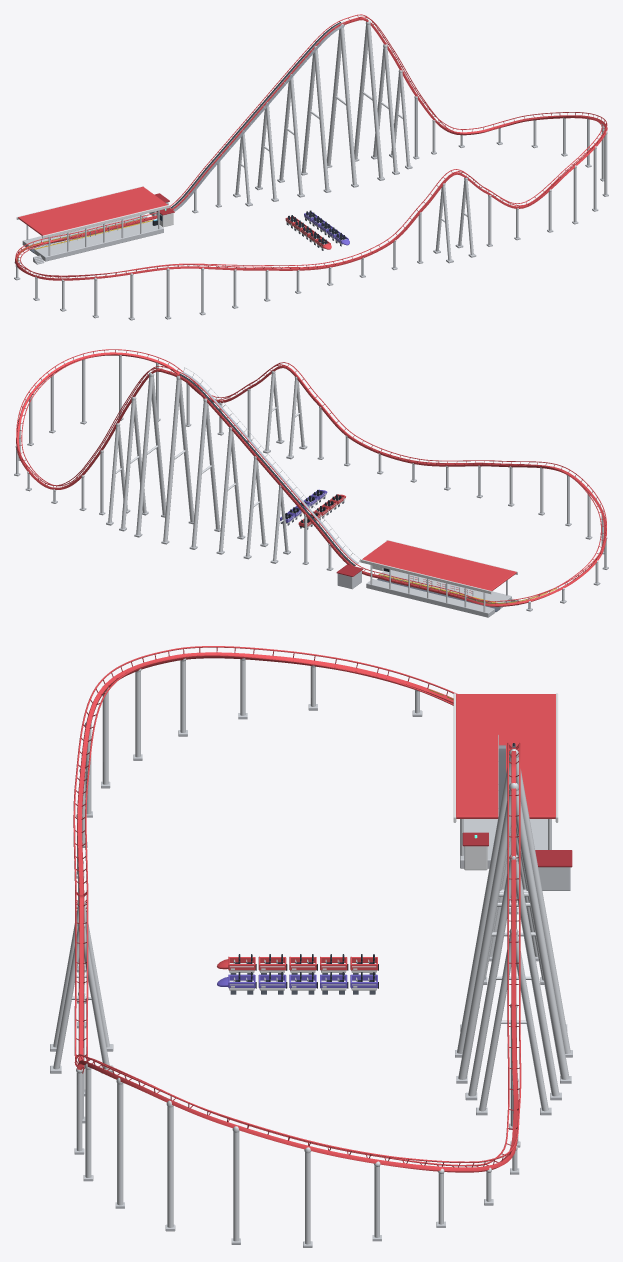
File: coaster.glb
The picture shows the model from 3 angles, top to bottom: view 1: azimuth 30°, elevation 25°; view 2: azimuth 150°, elevation 25°; view 3: azimuth 270°, elevation 25°; orthographic projection. The views are drawn at different scales.
Visible parts, largest first — view 1: coaster_support_columns, coaster_track_rails, coaster_station_canopy, coaster_station_deck, coaster_support_footings, coaster_lift_walkway, coaster_lift_chain, coaster_train_a, coaster_train_b, coaster_track_ties; view 2: coaster_support_columns, coaster_track_rails, coaster_station_canopy, coaster_station_deck, coaster_support_footings, coaster_lift_walkway, coaster_lift_chain, coaster_track_ties, coaster_lift_drive, coaster_train_a, coaster_train_b; view 3: coaster_support_columns, coaster_track_rails, coaster_station_canopy, coaster_train_b, coaster_train_a, coaster_support_footings, coaster_lift_drive, coaster_station_deck, coaster_track_ties, coaster_station_booth.
Part boxes in pixels (bbox=[...]): coaster_support_columns: bbox=[15, 20, 607, 318]; coaster_track_rails: bbox=[15, 14, 607, 280]; coaster_station_canopy: bbox=[16, 186, 169, 255]; coaster_station_deck: bbox=[22, 214, 163, 264]; coaster_support_footings: bbox=[14, 142, 608, 320]; coaster_lift_walkway: bbox=[173, 21, 344, 211]; coaster_lift_chain: bbox=[170, 22, 340, 208]; coaster_train_a: bbox=[285, 215, 331, 250]; coaster_train_b: bbox=[304, 210, 349, 246]; coaster_track_ties: bbox=[16, 15, 606, 278]; coaster_support_columns: bbox=[15, 355, 607, 609]; coaster_track_rails: bbox=[16, 349, 606, 606]; coaster_station_canopy: bbox=[360, 540, 517, 611]; coaster_station_deck: bbox=[366, 570, 519, 617]; coaster_support_footings: bbox=[14, 417, 608, 611]; coaster_lift_walkway: bbox=[182, 367, 360, 563]; coaster_lift_chain: bbox=[179, 373, 355, 565]; coaster_track_ties: bbox=[17, 350, 606, 603]; coaster_lift_drive: bbox=[336, 564, 363, 589]; coaster_train_a: bbox=[298, 494, 345, 529]; coaster_train_b: bbox=[280, 489, 327, 525]; coaster_support_columns: bbox=[53, 658, 570, 1244]; coaster_track_rails: bbox=[73, 646, 521, 1172]; coaster_station_canopy: bbox=[453, 693, 558, 855]; coaster_train_b: bbox=[217, 972, 378, 994]; coaster_train_a: bbox=[217, 954, 378, 974]; coaster_support_footings: bbox=[50, 704, 572, 1247]; coaster_lift_drive: bbox=[535, 850, 572, 890]; coaster_station_deck: bbox=[460, 819, 551, 868]; coaster_track_ties: bbox=[75, 647, 519, 1167]; coaster_station_booth: bbox=[462, 832, 488, 870].
Size of the model in its own units: 122 by 33.37 by 49.59.
